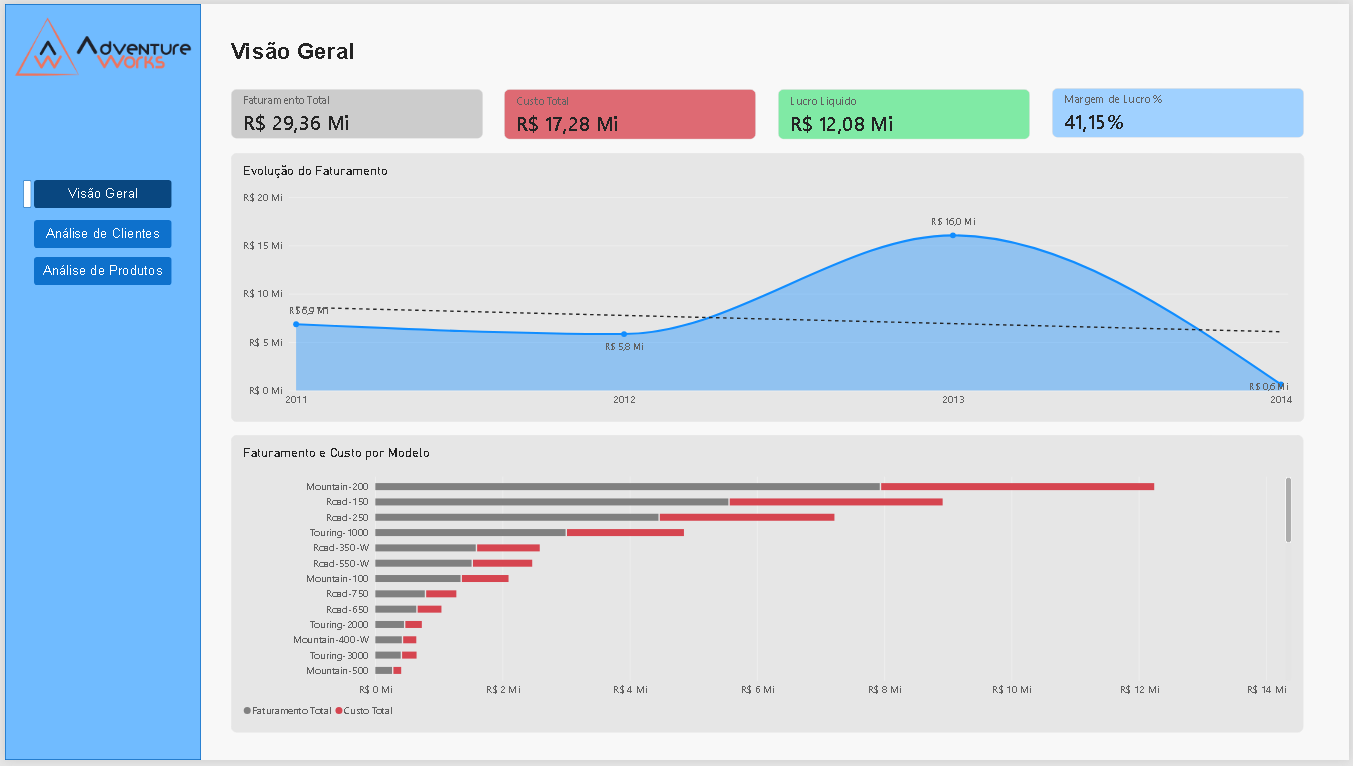

What the dashboard file says about the page in this screenshot:
{"tool":"powerbi","page":{"name":"Visão Geral","canvas":[1920,1080],"ordinal":0},"visuals":[{"type":"shape","box":[0,0,280,1080],"z":0},{"type":"image","box":[0,0,280,122],"z":1000},{"type":"textbox","box":[323.3,48.3,360,40],"z":2000},{"type":"cardVisual","fields":{"Data":["FactInternetSales.Faturamento Total"]},"box":[323.3,121.7,360,71.7],"z":3000},{"type":"cardVisual","fields":{"Data":["FactInternetSales.Custo Total"]},"box":[712.5,121.2,360,72],"z":4000},{"type":"cardVisual","fields":{"Data":["FactInternetSales.Lucro Liquido"]},"box":[1103.8,121.2,360,72],"z":5000},{"type":"cardVisual","fields":{"Data":["FactInternetSales.Margem de Lucro %"]},"box":[1495,120,360,71.7],"z":6000},{"type":"lineChart","title":"Evolução do Faturamento","fields":{"Category":["DimDate.FullDateAlternateKey.Variation.Hierarquia de datas.Ano","DimDate.FullDateAlternateKey.Variation.Hierarquia de datas.Trimestre","DimDate.FullDateAlternateKey.Variation.Hierarquia de datas.Mês","DimDate.FullDateAlternateKey.Variation.Hierarquia de datas.Dia"],"Y":["FactInternetSales.Faturamento Total"]},"box":[322.9,212.9,1532.9,384.3],"z":7000},{"type":"barChart","title":"Faturamento e Custo por Modelo","fields":{"Category":["DimProduct.ModelName"],"Y":["FactInternetSales.Faturamento Total","FactInternetSales.Custo Total"]},"box":[323.3,615,1531.7,425],"z":8000},{"type":"actionButton","box":[41.7,250.8,196.7,40],"z":9000},{"type":"actionButton","box":[41.7,308.3,196.7,40],"z":10000},{"type":"shape","box":[25,251.5,12,40],"z":11000},{"type":"actionButton","box":[41.7,361.2,196.7,40],"z":11001}]}

Visuals, with their boxes in screenshot pixels (x1, y1, x2, y2), scaled from the page's 1920x1080 canvas onto the 1353x766 screenshot:
shape: x1=0, y1=0, x2=197, y2=765
image: x1=0, y1=0, x2=197, y2=87
textbox: x1=228, y1=34, x2=482, y2=63
cardVisual - FactInternetSales.Faturamento Total: x1=228, y1=86, x2=482, y2=137
cardVisual - FactInternetSales.Custo Total: x1=502, y1=86, x2=756, y2=137
cardVisual - FactInternetSales.Lucro Liquido: x1=778, y1=86, x2=1032, y2=137
cardVisual - FactInternetSales.Margem de Lucro %: x1=1054, y1=85, x2=1307, y2=136
"Evolução do Faturamento" lineChart: x1=228, y1=151, x2=1308, y2=424
"Faturamento e Custo por Modelo" barChart: x1=228, y1=436, x2=1307, y2=738
actionButton: x1=29, y1=178, x2=168, y2=206
actionButton: x1=29, y1=219, x2=168, y2=247
shape: x1=18, y1=178, x2=26, y2=207
actionButton: x1=29, y1=256, x2=168, y2=285
